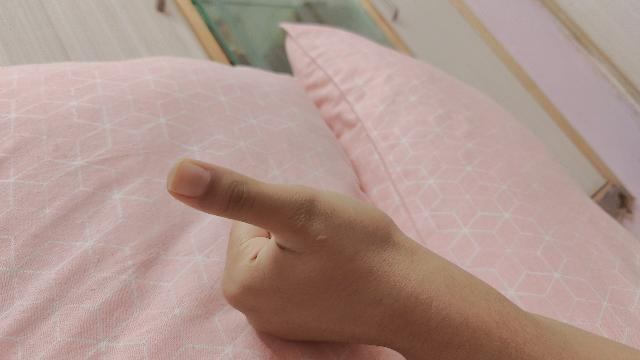shikhar: (165, 159, 640, 360)
